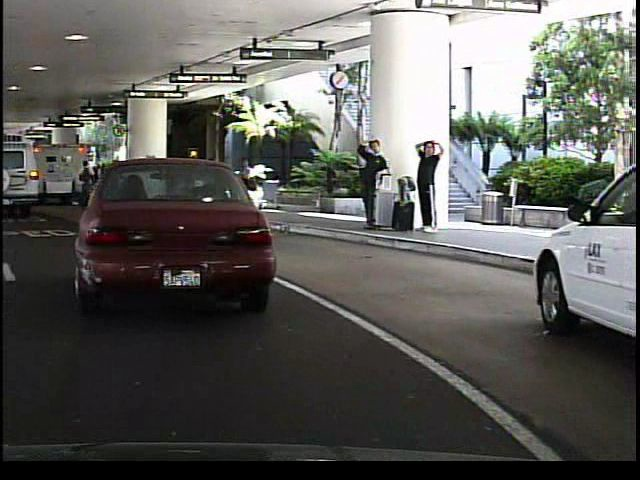person: (353, 134, 386, 232), (410, 134, 442, 235), (231, 153, 259, 220), (366, 152, 387, 224)
